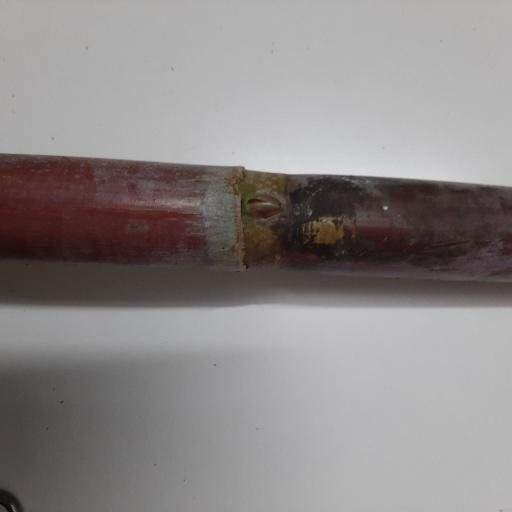Bud: (242, 189, 284, 219)
